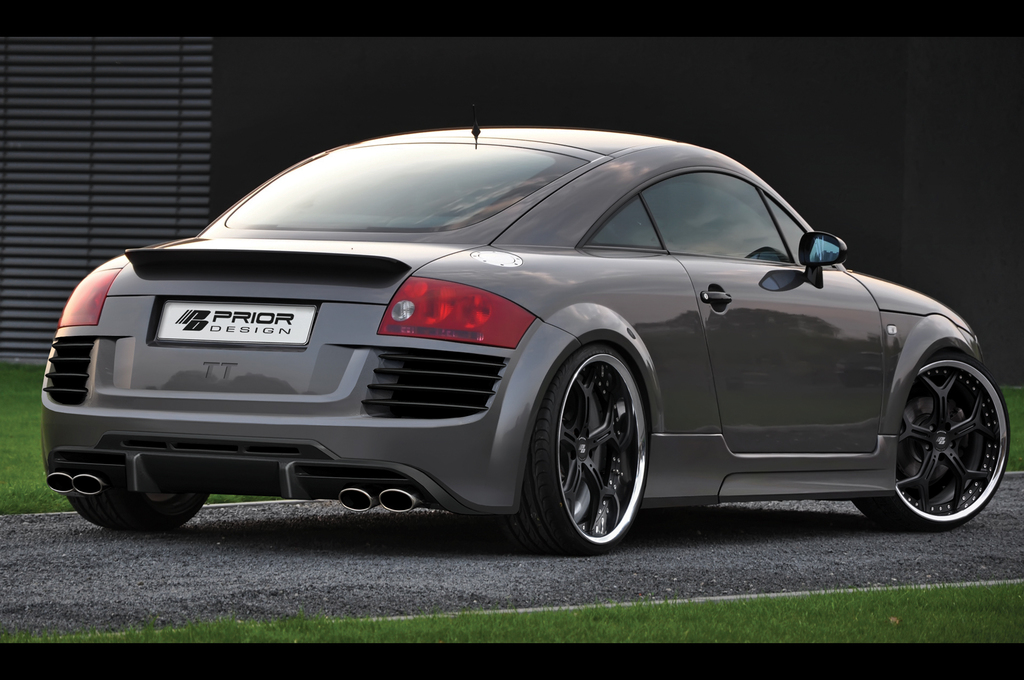Car: (12, 128, 993, 546)
